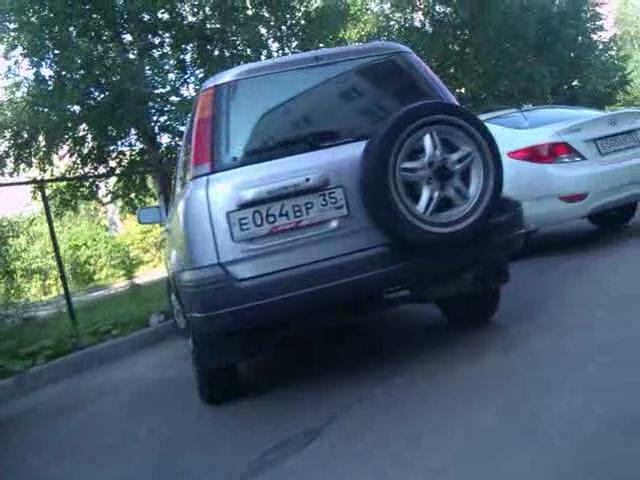car license plate: (225, 185, 349, 247), (596, 128, 638, 160)
